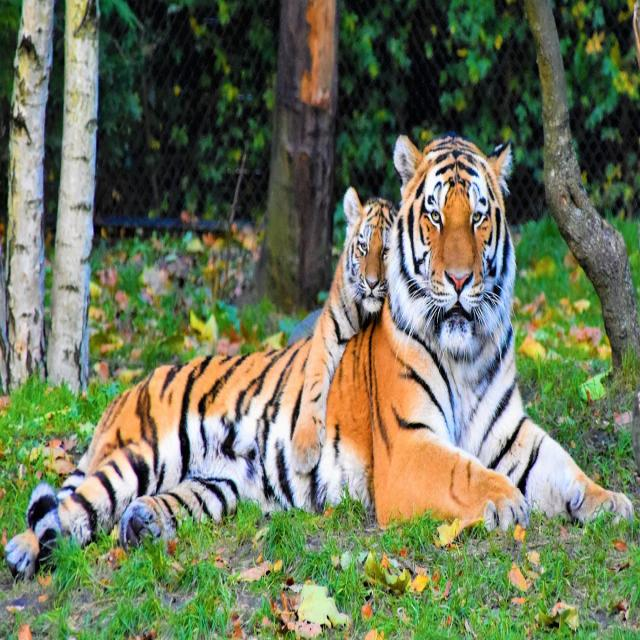Tiger: (2, 132, 634, 577), (290, 185, 399, 476)
